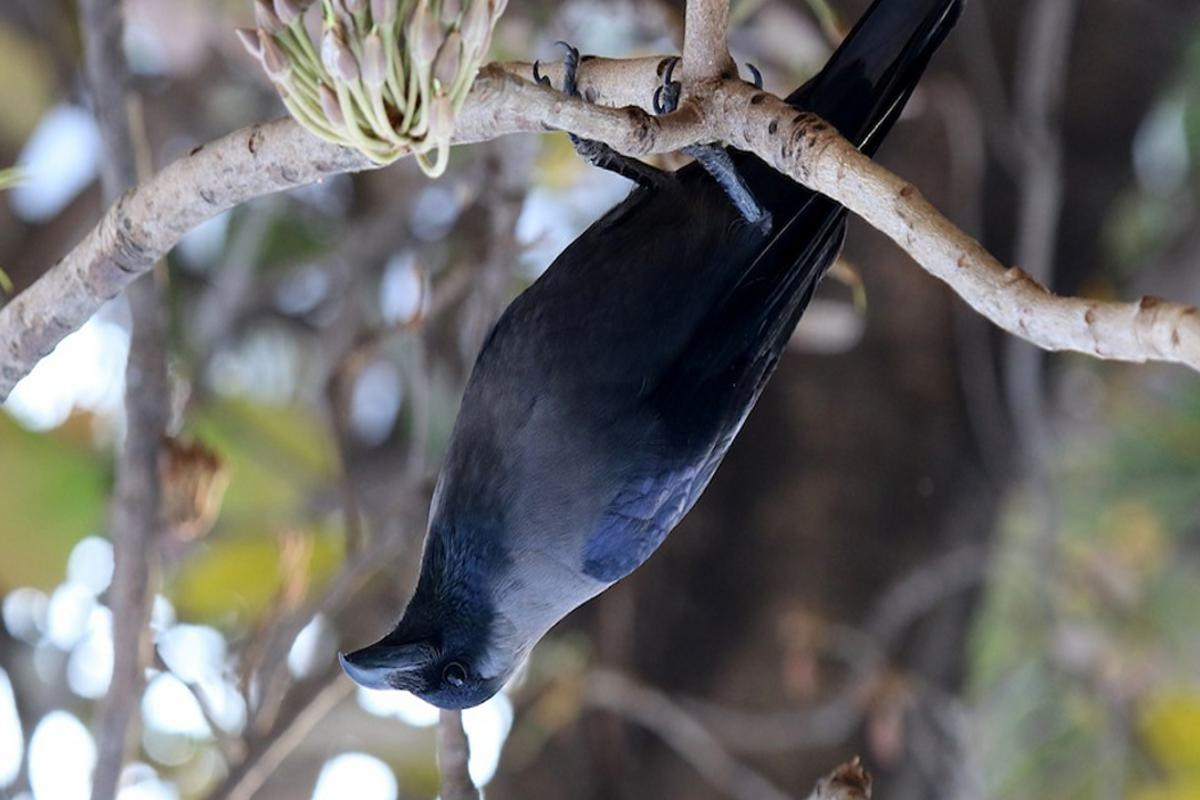crow: (331, 1, 1002, 719)
